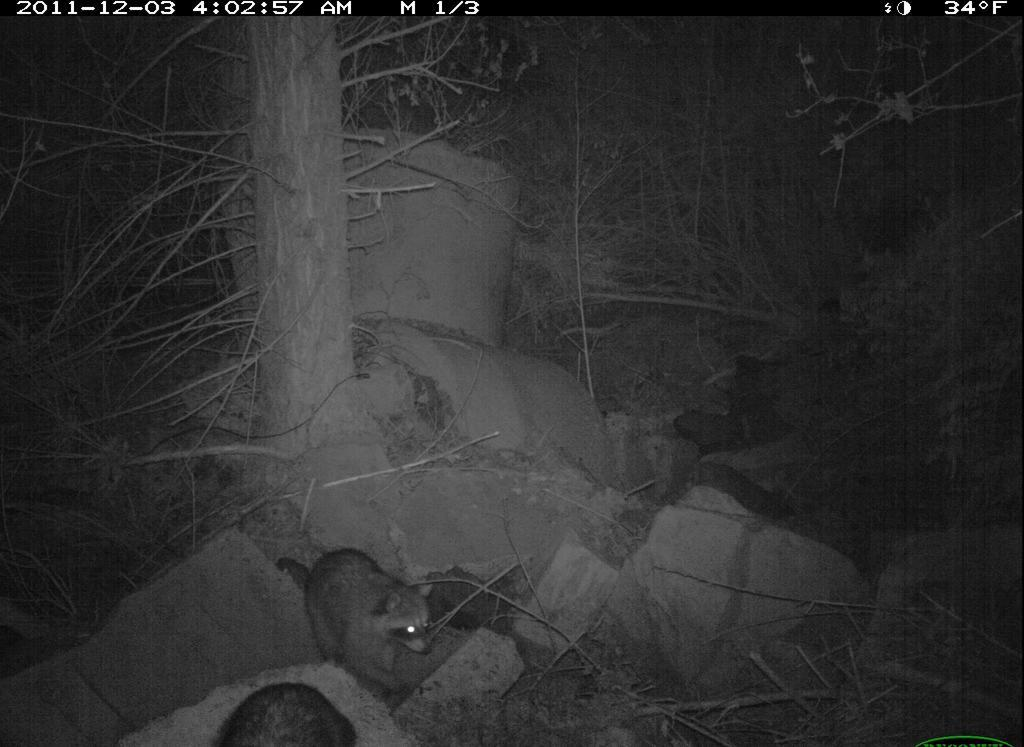raccoon: (278, 545, 464, 675), (201, 681, 359, 747)
